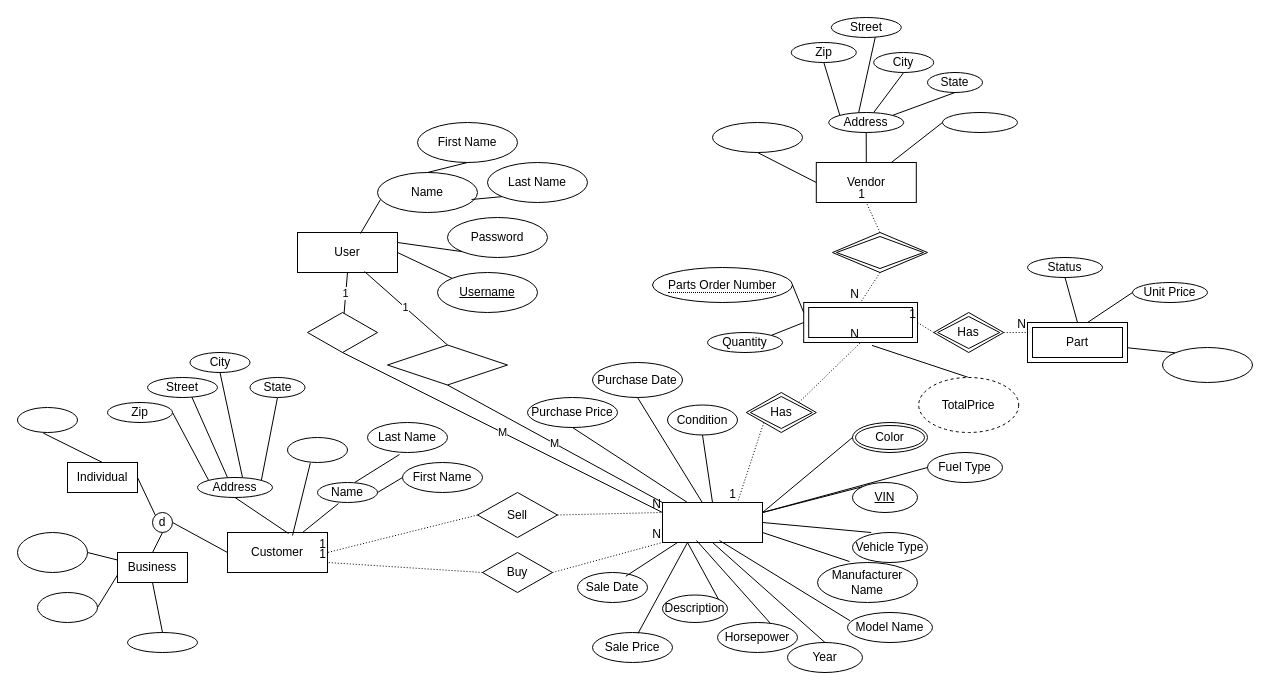
The diagram is 1270 pixels wide and 690 high, and some of its shapes have lost their labels. Each missing label, with the centre of its shape:
Business Name: [52,552]
Email: [317,449]
Part Number: [1207,364]
Parts Order: [860,322]
Phone: [980,122]
PurchasedBy: [447,364]
SoldBy: [342,332]
SSN: [47,419]
Supplies: [880,252]
TIN: [162,642]
Title: [67,607]
Vehicle: [712,522]
Vendor Name: [757,137]
